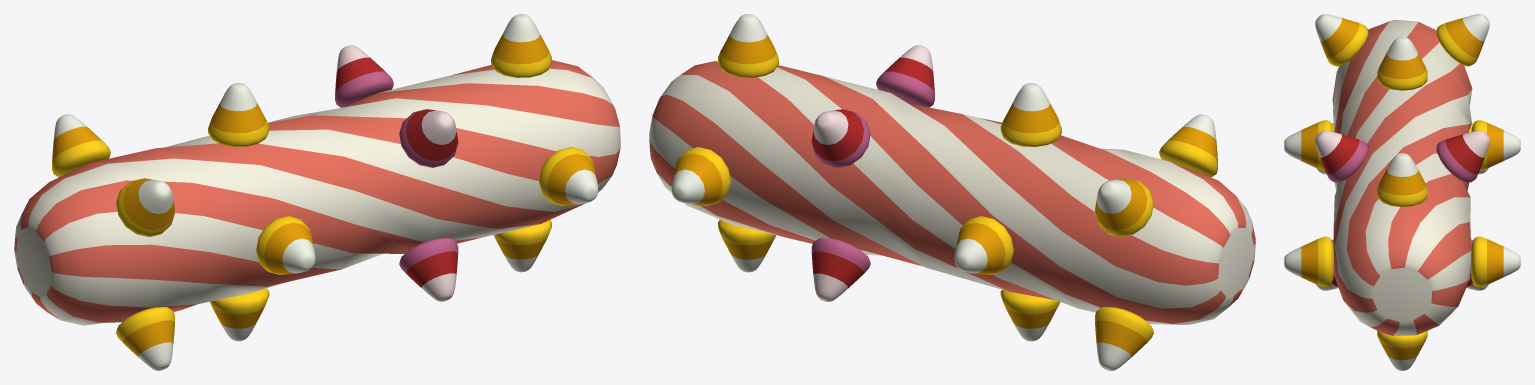
Rendered from candy_platform9.fbx.
3 renders of one model, left to right at view 1: azimuth 30°, elevation 25°; view 2: azimuth 150°, elevation 25°; view 3: azimuth 270°, elevation 25°, orthographic. The views are drawn at different scales.
Parts seen in each view (by area): view 1: candy_platform9; view 2: candy_platform9; view 3: candy_platform9.
Part boxes in pixels (left/top/right/bottom): candy_platform9: left=14, top=14, right=620, bottom=370; candy_platform9: left=649, top=14, right=1255, bottom=370; candy_platform9: left=1284, top=14, right=1520, bottom=370.
Bounding box in the file's own units: 1587 × 679 × 679.
1 material, 1 textured.
